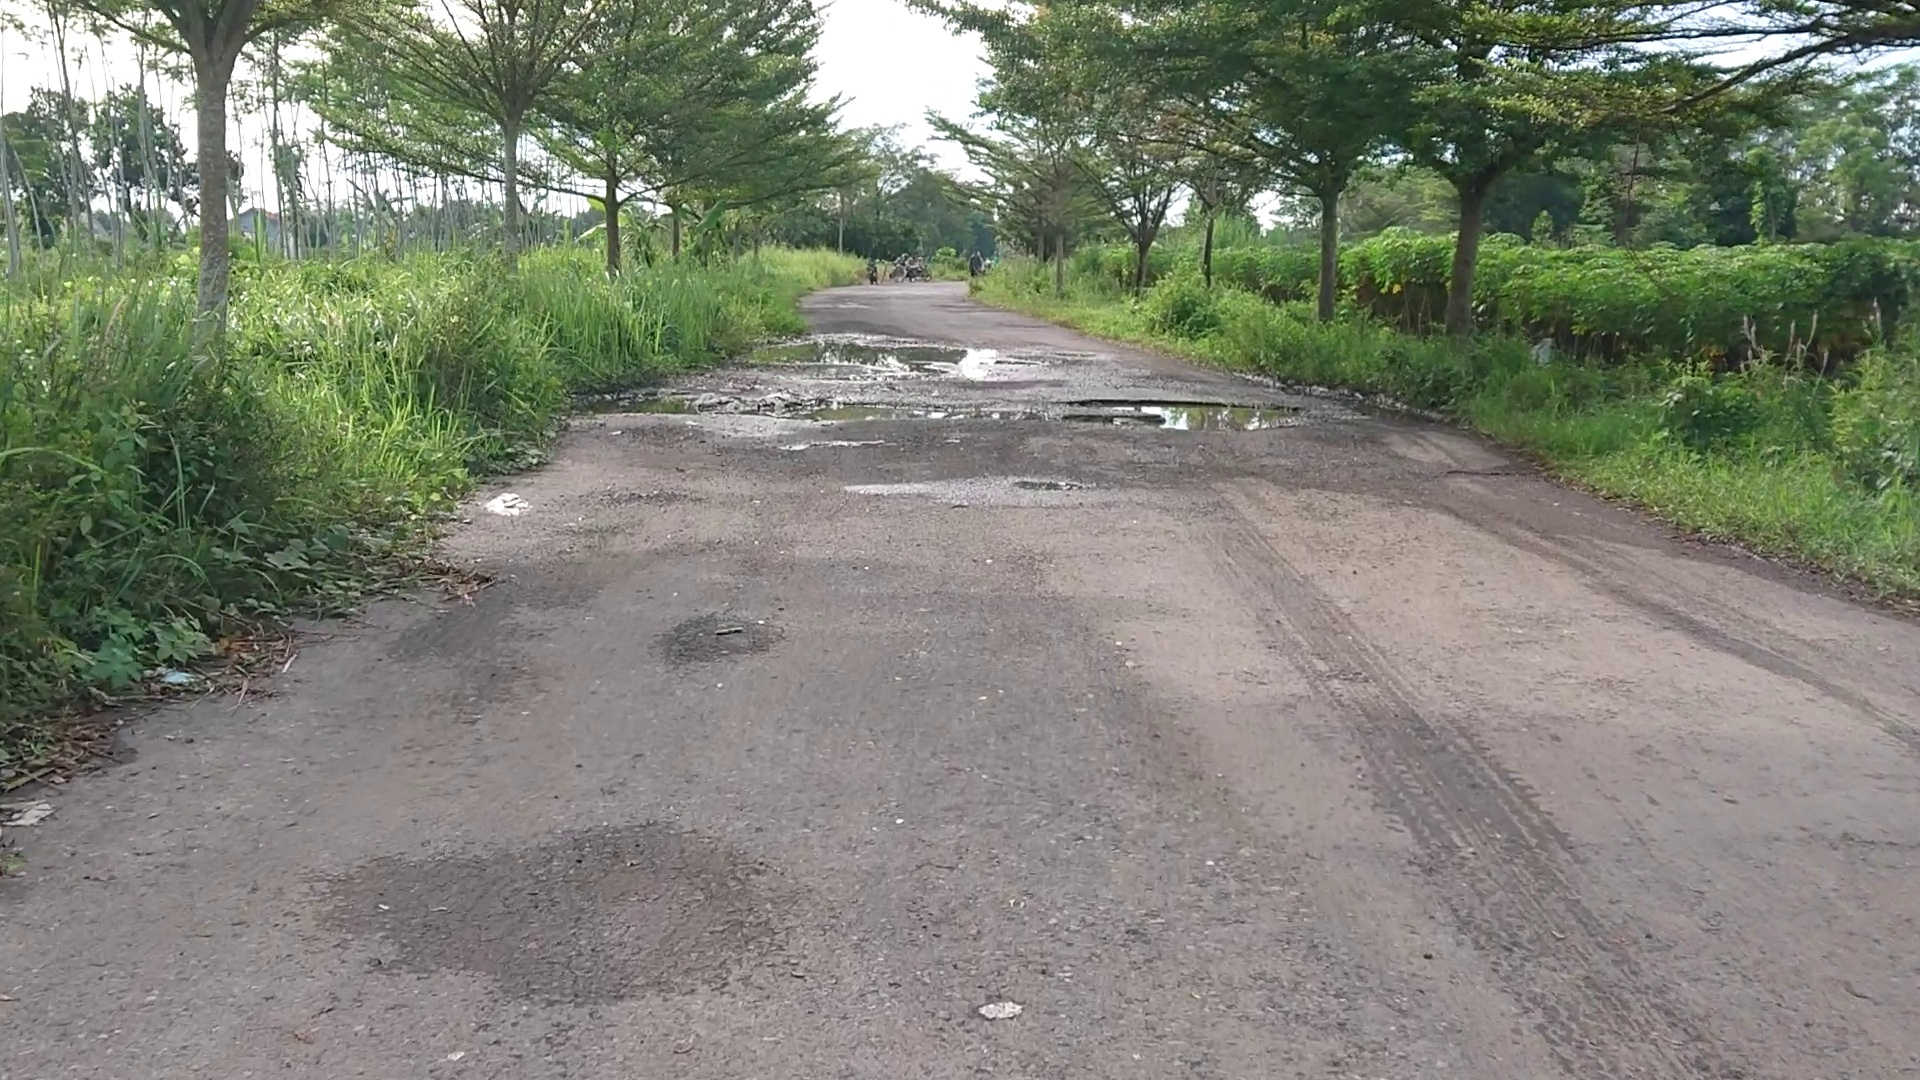Berlubang: (769, 331, 1026, 382), (1015, 396, 1317, 429), (757, 401, 1009, 429), (587, 392, 746, 423)
